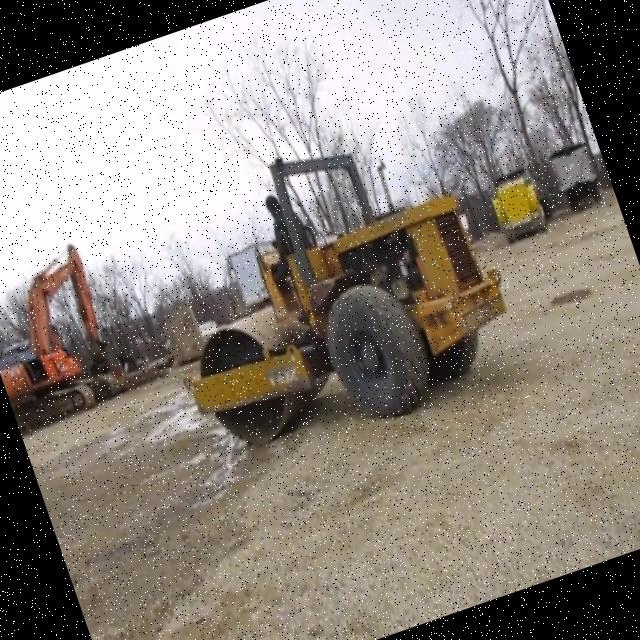Excavator: (0, 233, 131, 433)
Roller: (127, 100, 532, 478)
